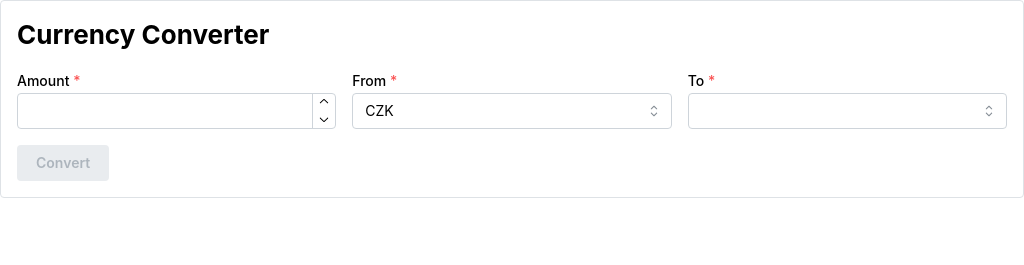
Scenario: CurrencyConverter › shows correct options in currency selects
Click the field labelled "From *". click: point(512, 111)
box: [352,93,672,129]
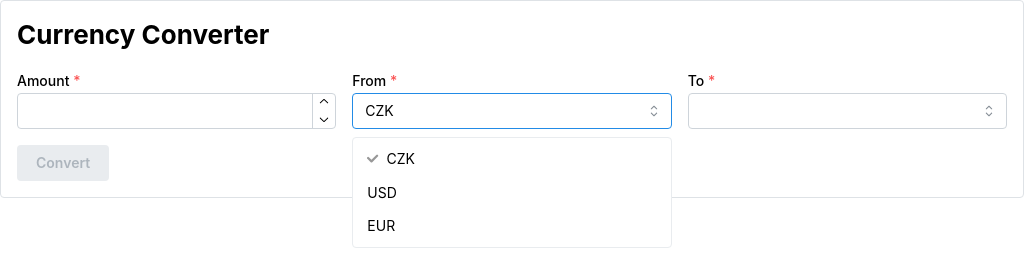
Result: the text "CZK" is shown at [386,148,415,170]
Result: the text "USD" is shown at [367,182,397,203]
Result: the text "EUR" is shown at [367,215,395,237]
